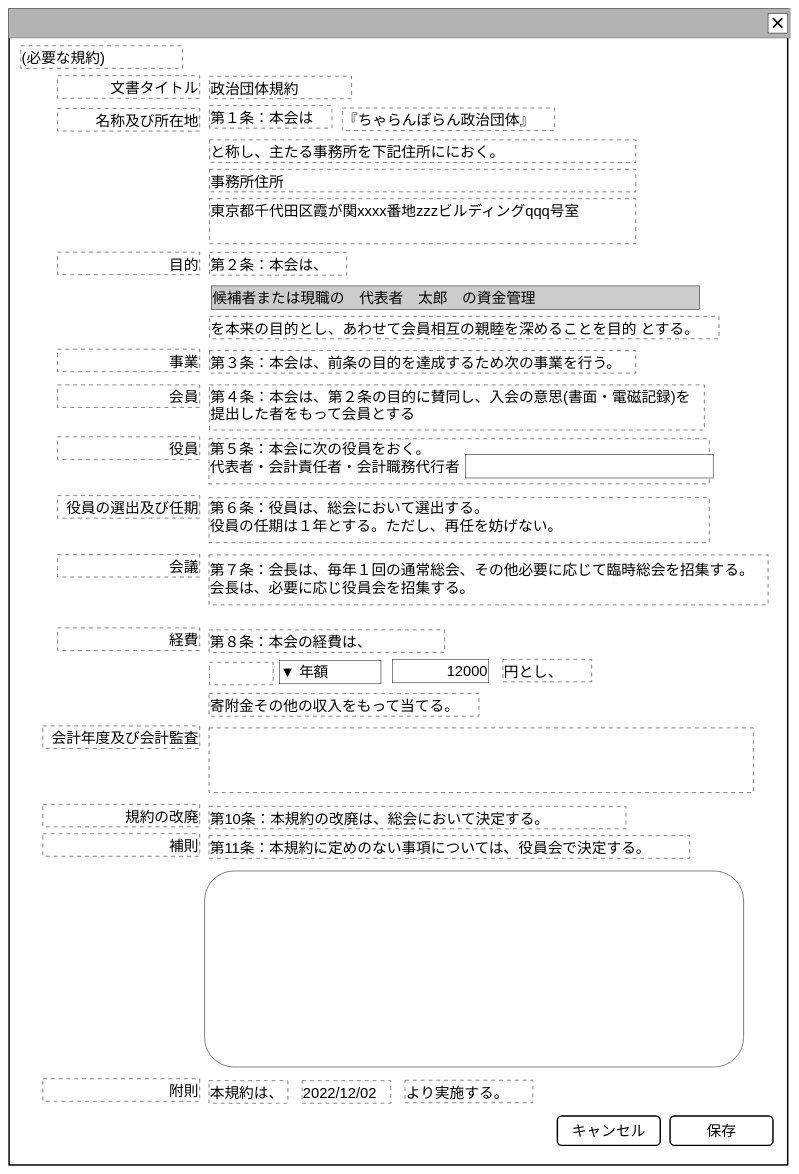
Some shapes in this 799 by 1174 pixel diagram are drawn without their labels. The centre of each missing label's shape, as x and y in pixels:
"代表幹事、世話人" belongs at point (589, 466).
"会費" belongs at point (241, 673).
"本会の会計年度は、毎年１月１日から１２月３１日までとする。 会計責任者は、本会の経理につき年１回監事による監査を受け、 その監査意見書を付して総会に報告する。" belongs at point (480, 760).
"第12条：紅茶のミルクは生乳が望ましいと貼り紙すること … 第100条：コーヒーの砂糖は角砂糖1個が望ましいと貼り紙すること" belongs at point (474, 968).
